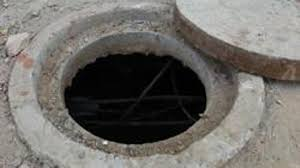manhole: (3, 1, 286, 168)
